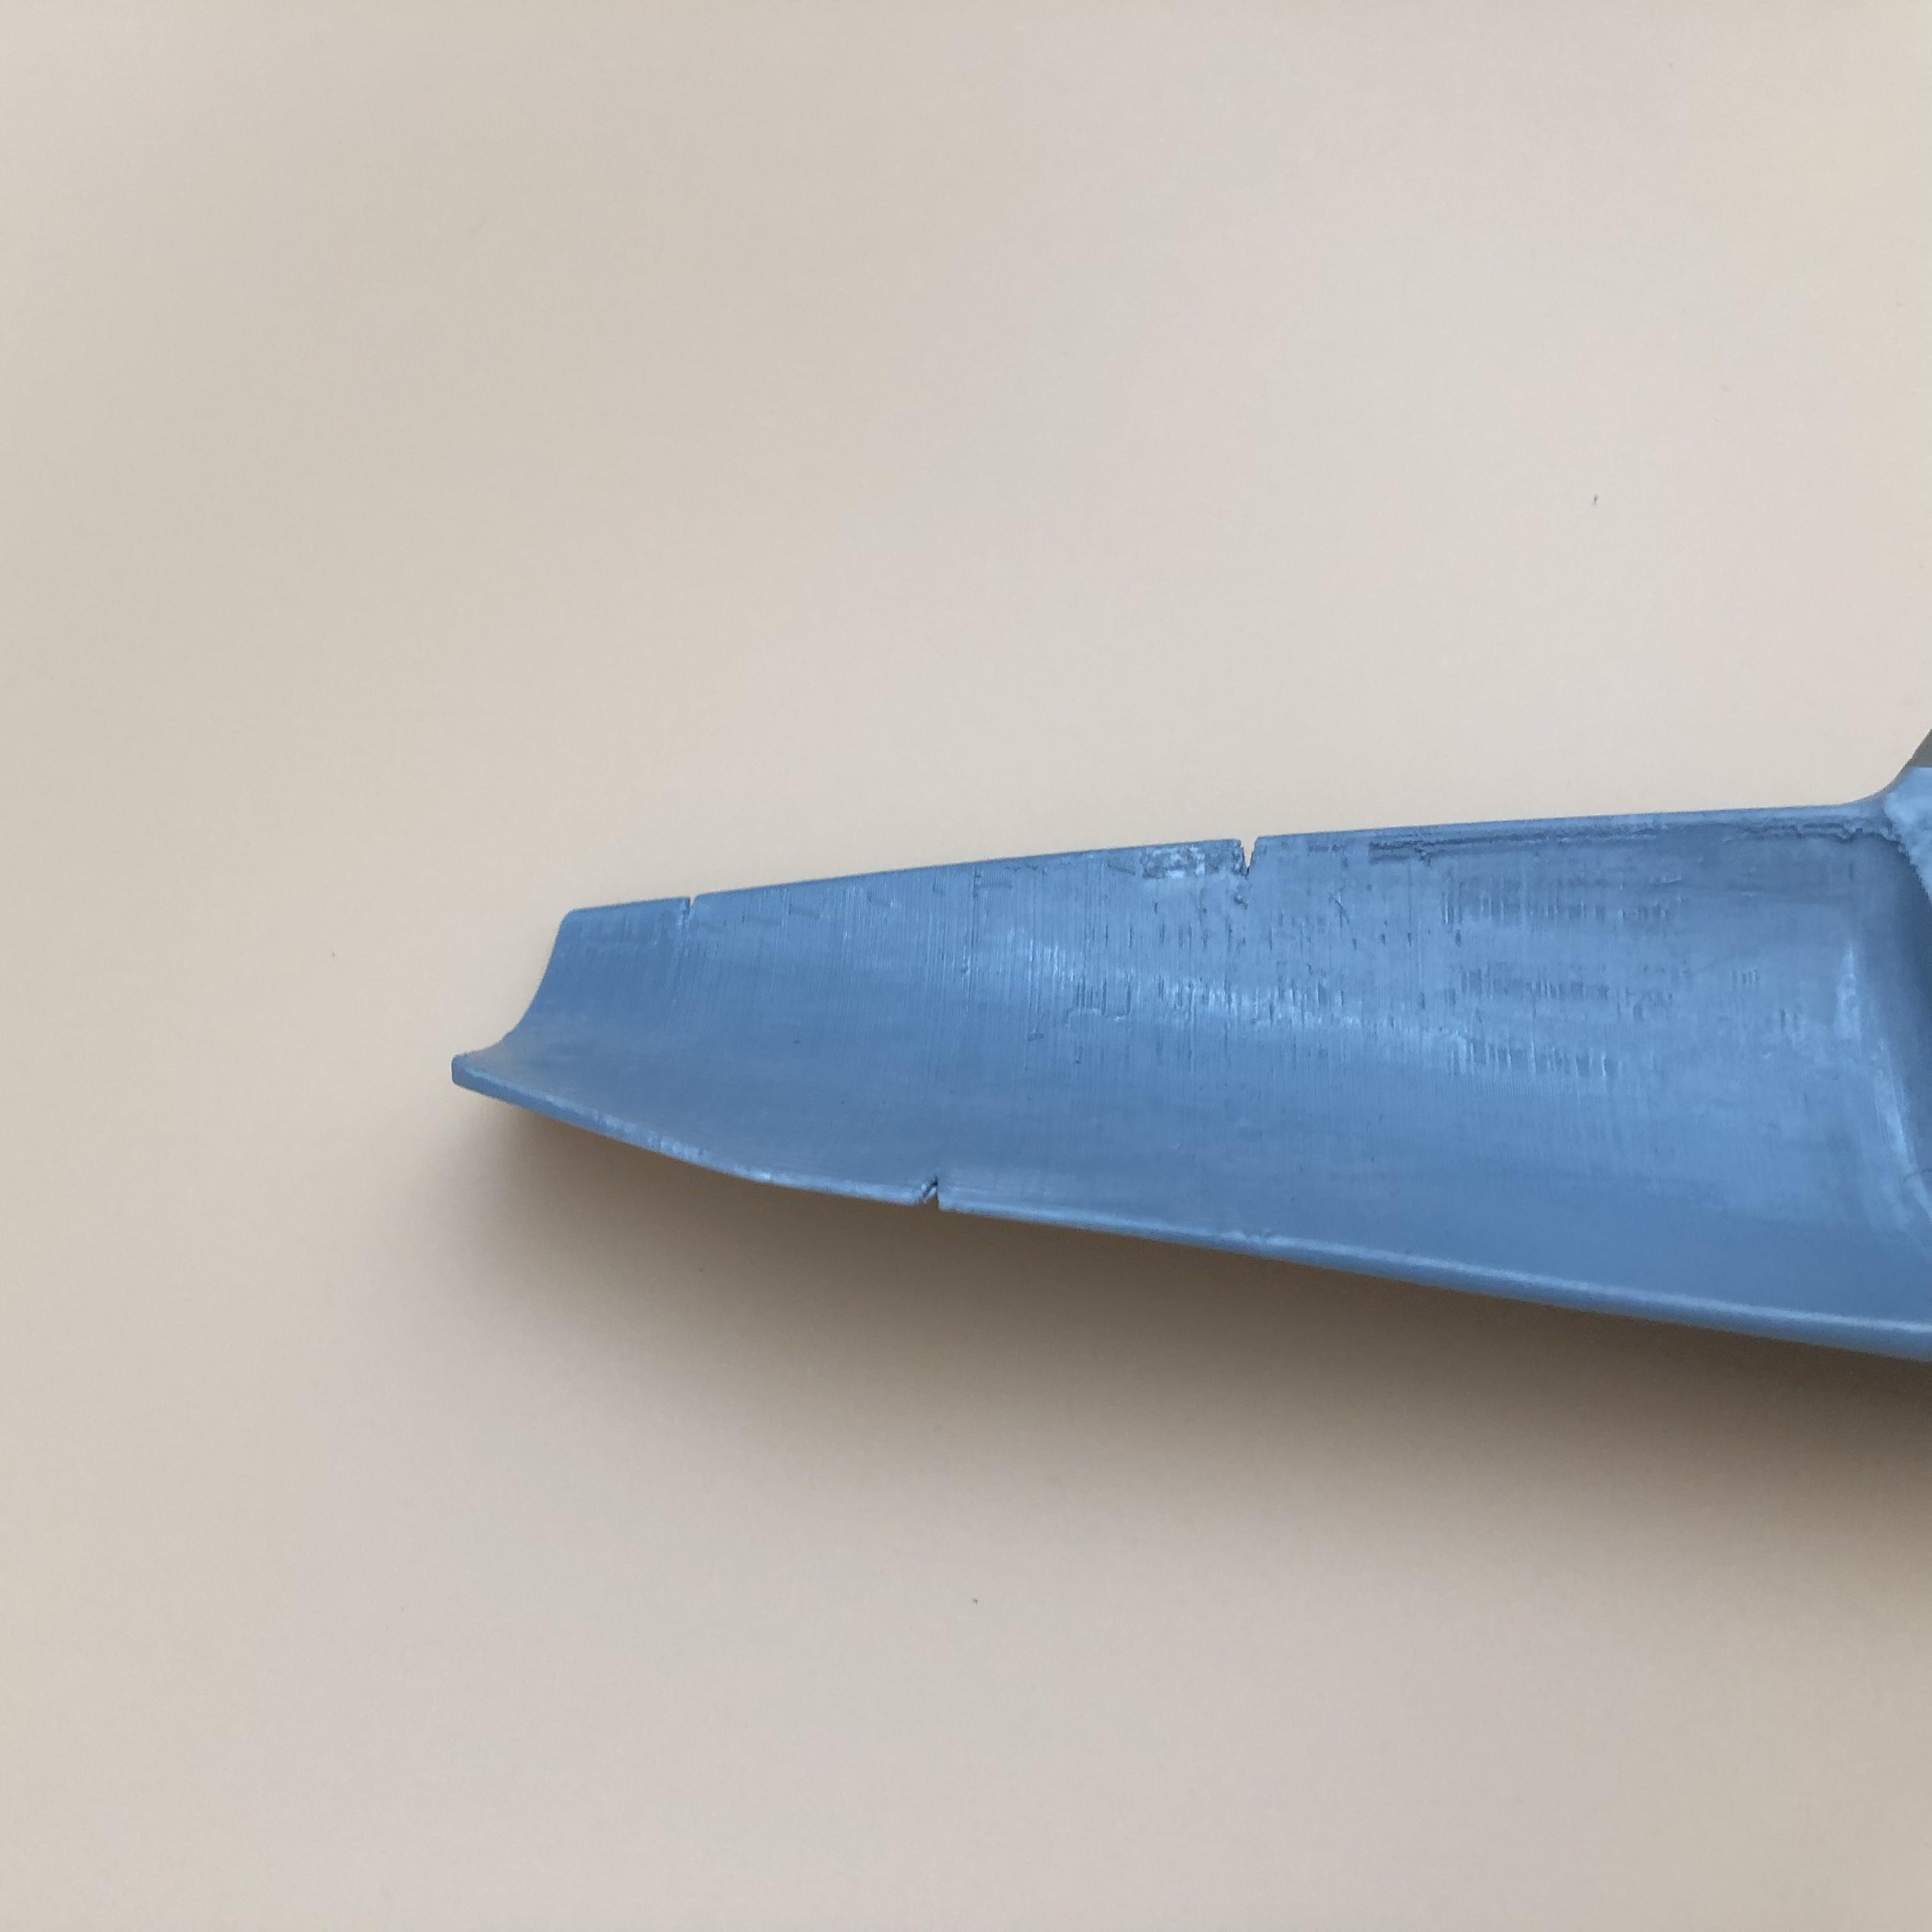groove: (1231, 839, 1288, 878), (915, 1164, 957, 1214), (674, 892, 727, 924)
